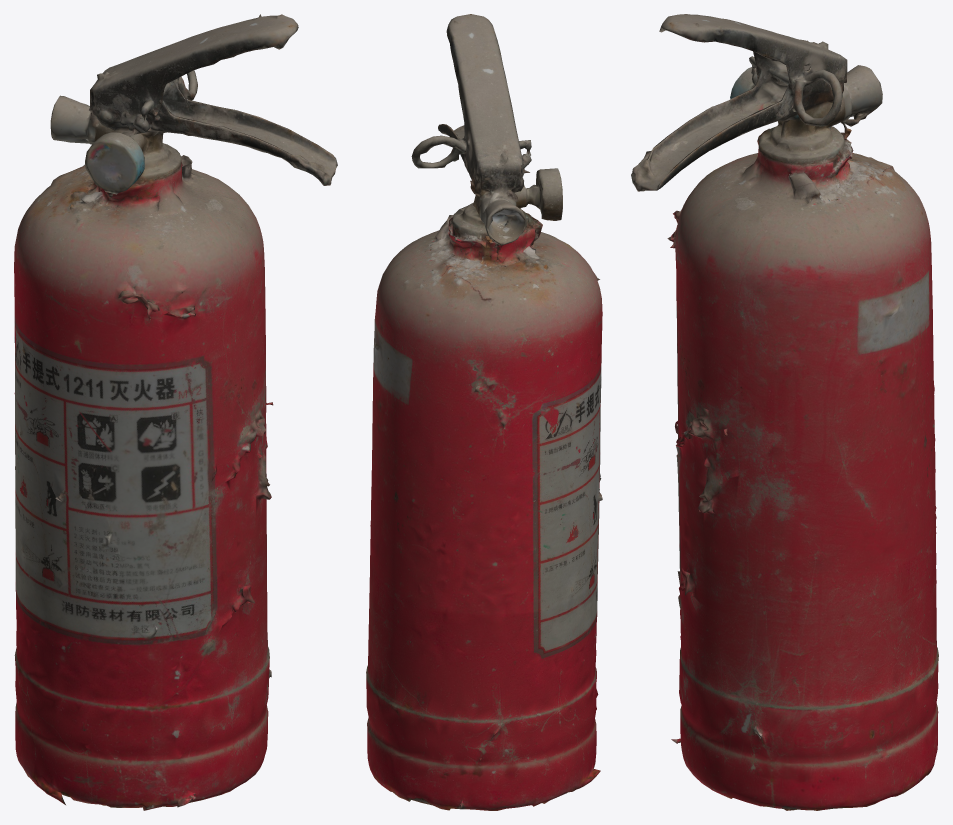
File: PX_Fire_Extinguisher_01_LOD2.fbx
3 views of the same model, side by side, from view 1: azimuth 30°, elevation 25°; view 2: azimuth 150°, elevation 25°; view 3: azimuth 270°, elevation 25° (orthographic). The views are drawn at different scales.
Visible parts, largest first — view 1: PX_Fire_Extinguisher_01_LOD2; view 2: PX_Fire_Extinguisher_01_LOD2; view 3: PX_Fire_Extinguisher_01_LOD2.
Part boxes in pixels (box(x1,y1,x2,y2)): PX_Fire_Extinguisher_01_LOD2: box(14, 14, 337, 810); PX_Fire_Extinguisher_01_LOD2: box(366, 14, 602, 810); PX_Fire_Extinguisher_01_LOD2: box(631, 14, 938, 810).
Bounding box in the file's own units: 9.09 × 28.3 × 10.11.
